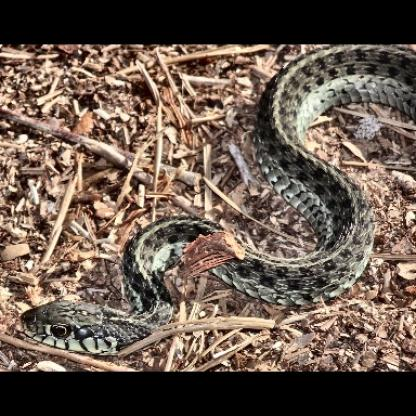Snake: (6, 55, 416, 313)
